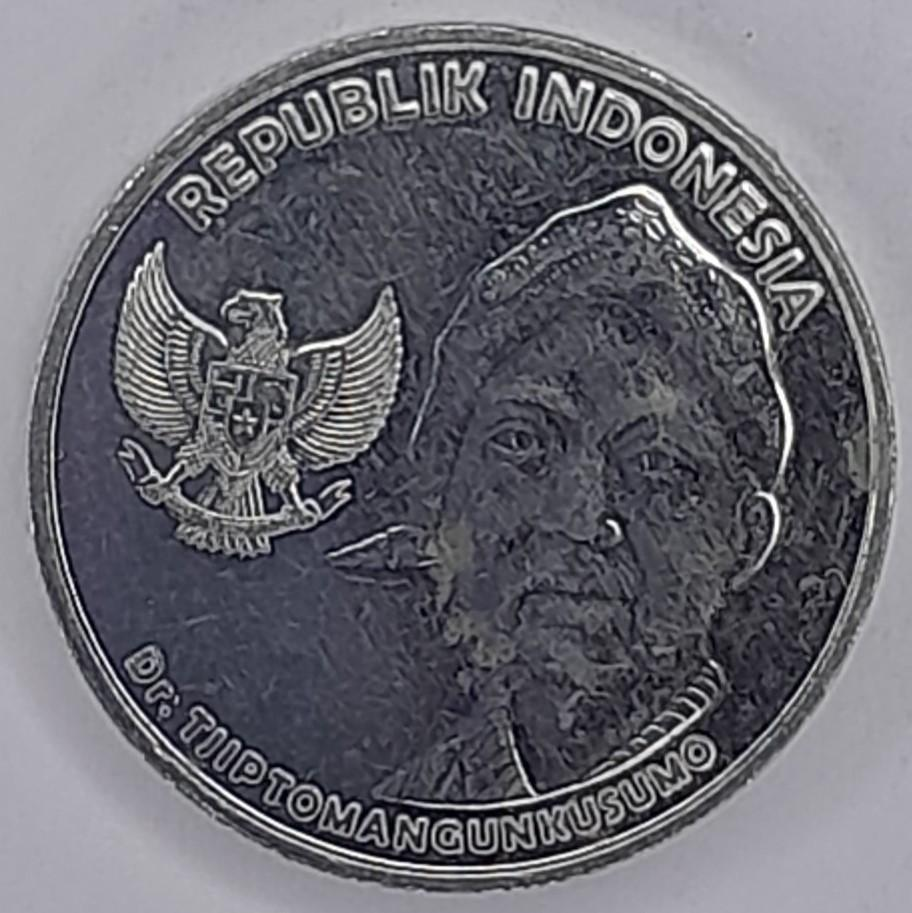coin_200_e2016: (0, 16, 912, 913)
